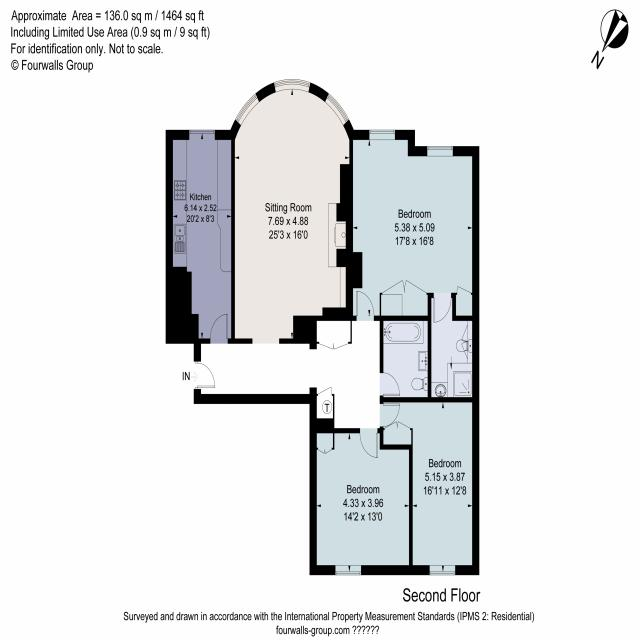DOOR: (432, 291, 452, 324), (209, 312, 229, 344), (359, 427, 378, 459), (356, 290, 375, 321), (194, 362, 216, 388), (380, 403, 401, 428), (379, 372, 400, 397)
ROOM: (229, 77, 363, 344), (336, 129, 480, 323), (379, 397, 480, 575), (309, 418, 413, 576), (165, 129, 235, 344)
WINDOW: (324, 92, 350, 127), (234, 92, 260, 126), (273, 78, 312, 94), (334, 564, 362, 576), (429, 564, 456, 576), (369, 129, 395, 141), (427, 146, 453, 157), (190, 130, 214, 134)
